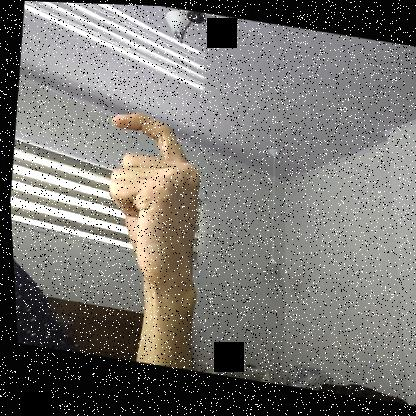X: (86, 103, 217, 300)
